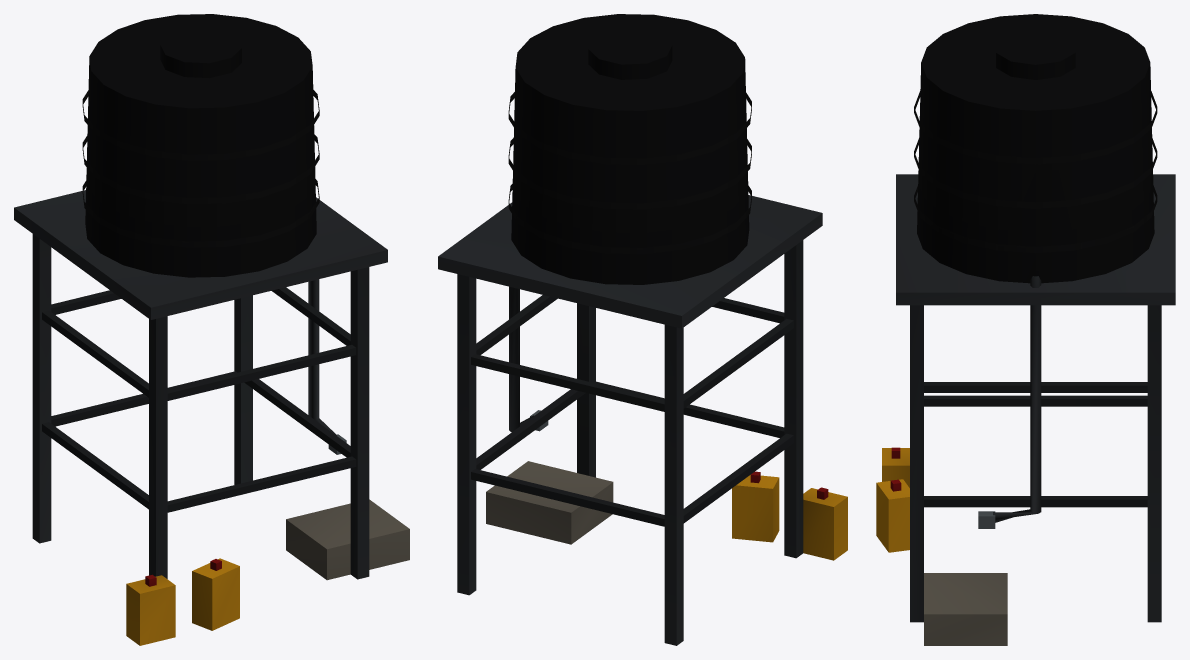
Rendered from fm_tank.glb.
3 renders of one model, left to right at view 1: azimuth 30°, elevation 25°; view 2: azimuth 150°, elevation 25°; view 3: azimuth 270°, elevation 25°, orthographic. The views are drawn at different scales.
Parts seen in each view (by area): view 1: fm_tank; view 2: fm_tank; view 3: fm_tank.
Part boxes in pixels (left/top/right/bottom): fm_tank: left=14, top=14, right=409, bottom=645; fm_tank: left=438, top=14, right=847, bottom=645; fm_tank: left=876, top=14, right=1175, bottom=645.
Size of the model in its own units: 2.45 by 4.12 by 2.14.
